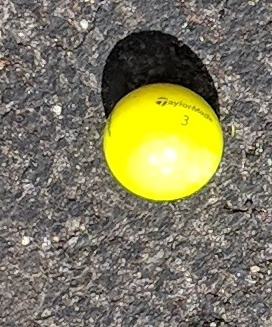ball: (103, 83, 224, 201)
